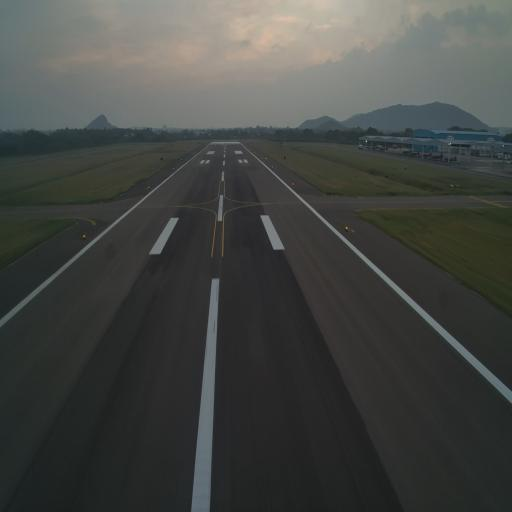on: (344, 225, 350, 231), (82, 234, 86, 239)
